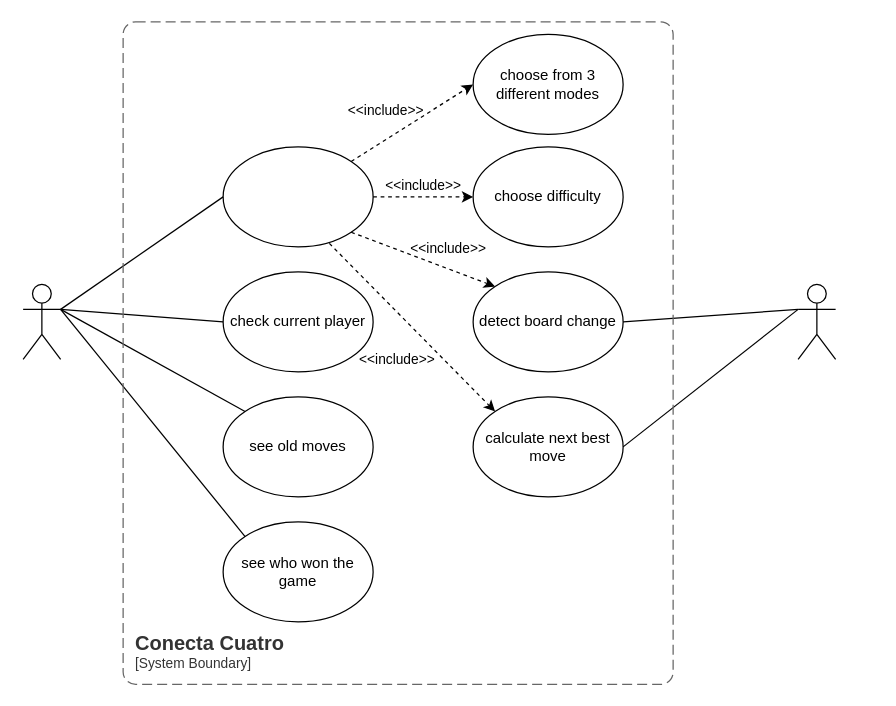
Image size: 896x706. Some labels were removed from this diagram. Each missing label, with the centre of its shape:
"Physical Machine" belongs at (816,321).
"play connect four game" belongs at (297,196).
"Visitor" belongs at (41,321).
